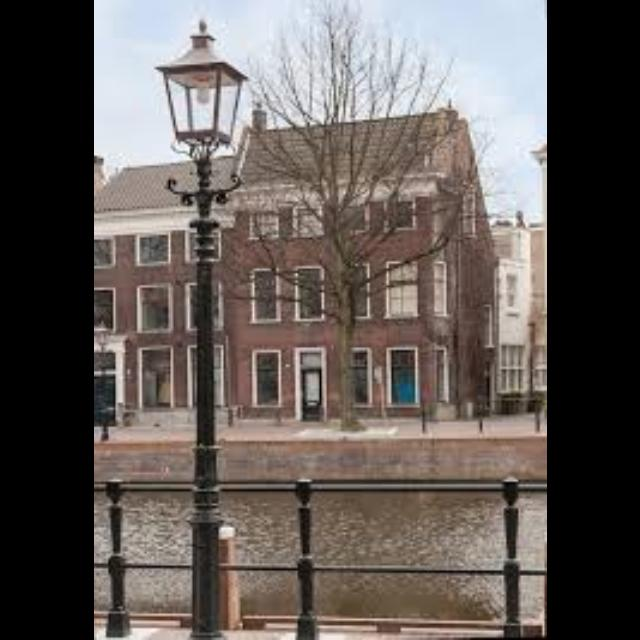Street-Lamp: (148, 12, 248, 632)
